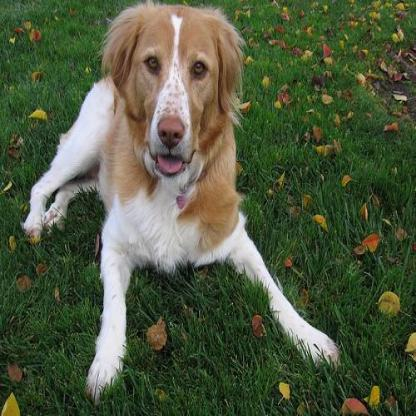Brittany_spaniel: (18, 1, 340, 401)
